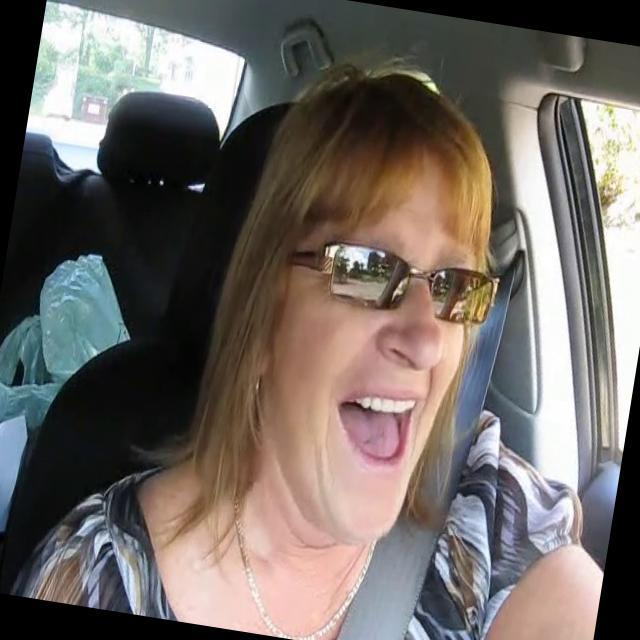open-mouth: (334, 384, 416, 472)
